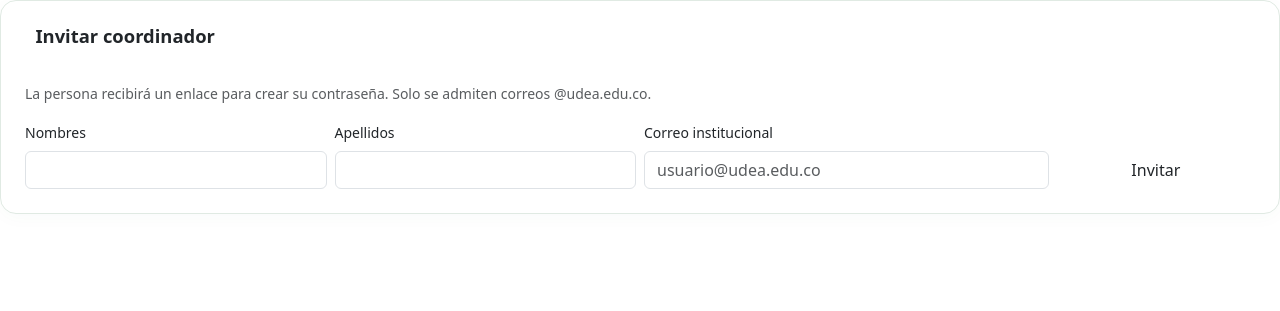
Test case: InvitarCoordinadorForm › solo invita correos @udea.edu.co y confirma el envío
Type "Pedro" into the field labelled "Nombres" at (176, 170), box [25, 151, 326, 189]
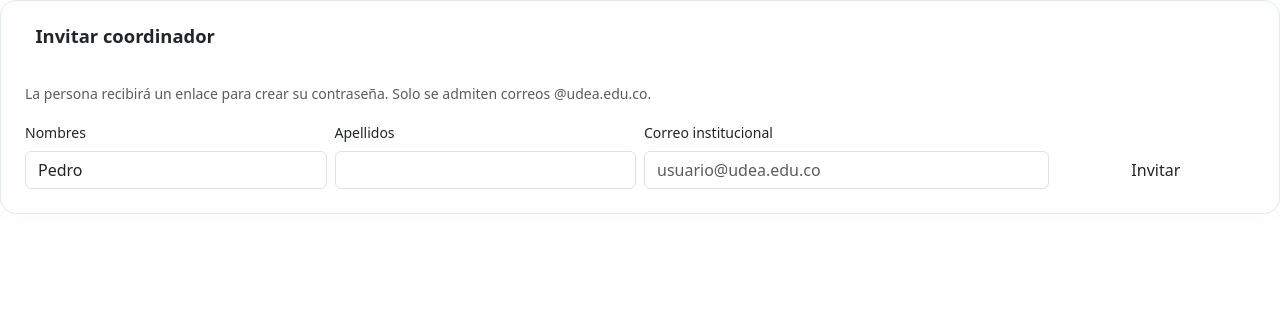
Type "Ruiz" into the field labelled "Apellidos" at (485, 170), box [334, 151, 636, 189]
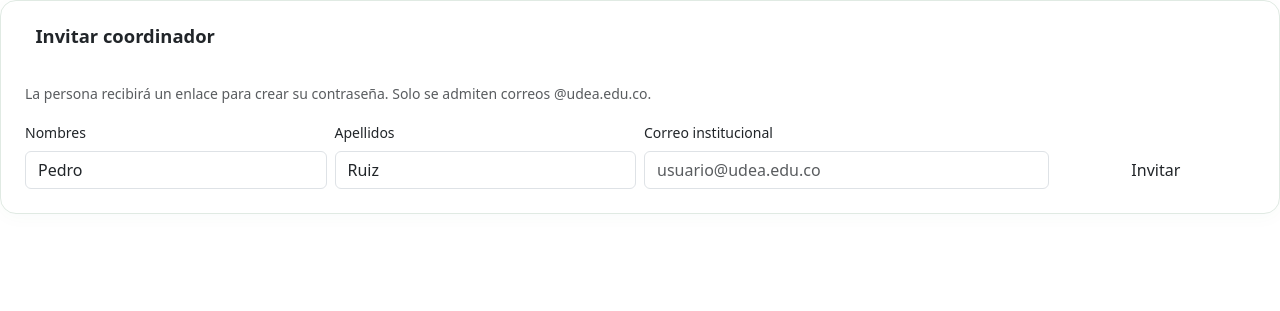
Type "pedro@gmail.com" into the field labelled "Correo institucional" at (846, 170), box [644, 151, 1049, 189]
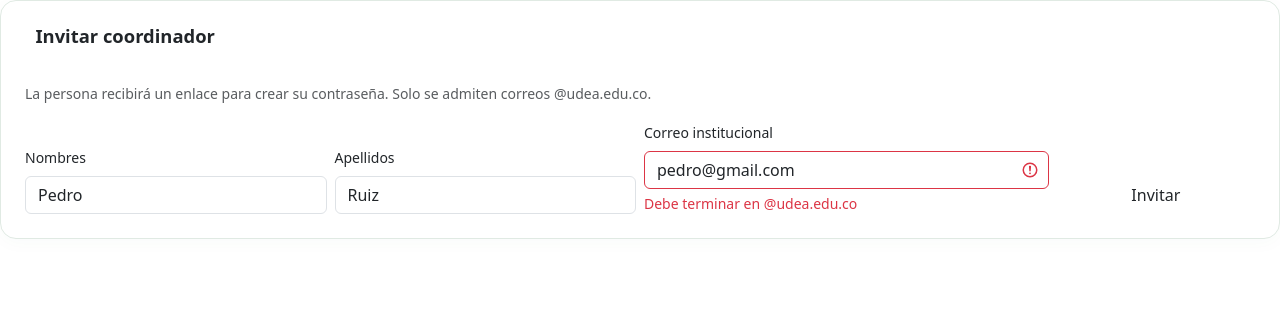
Click the button "Invitar" at (1156, 195), box [1057, 176, 1255, 214]
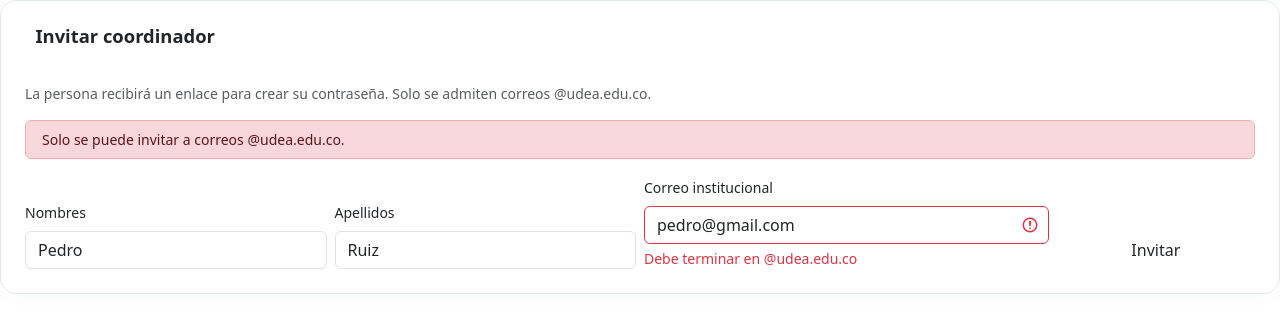
expect the message shows "Solo se puede invitar a correos @udea.edu.co": met, box [42, 130, 345, 149]
Replace the text in the field labelled "Correo institucional" with " Pedro.Ruiz@udea.edu.co " at (846, 225), box [644, 206, 1049, 244]
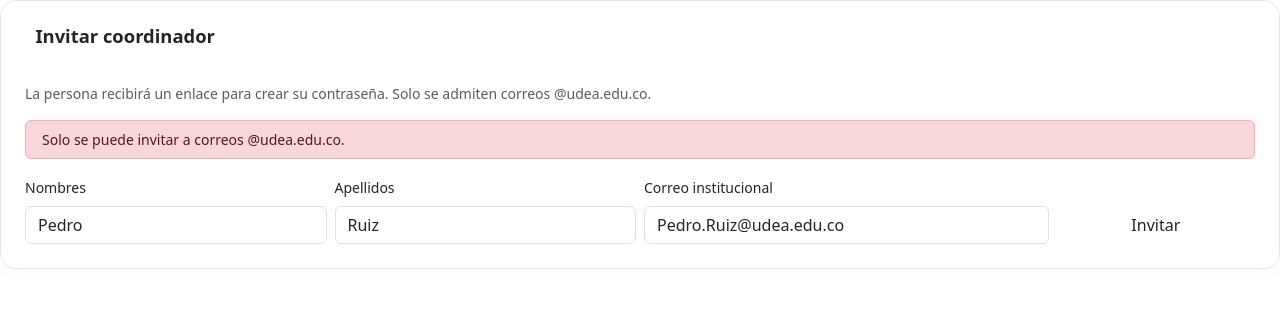
Click the button "Invitar" at (1156, 225), box [1057, 206, 1255, 244]
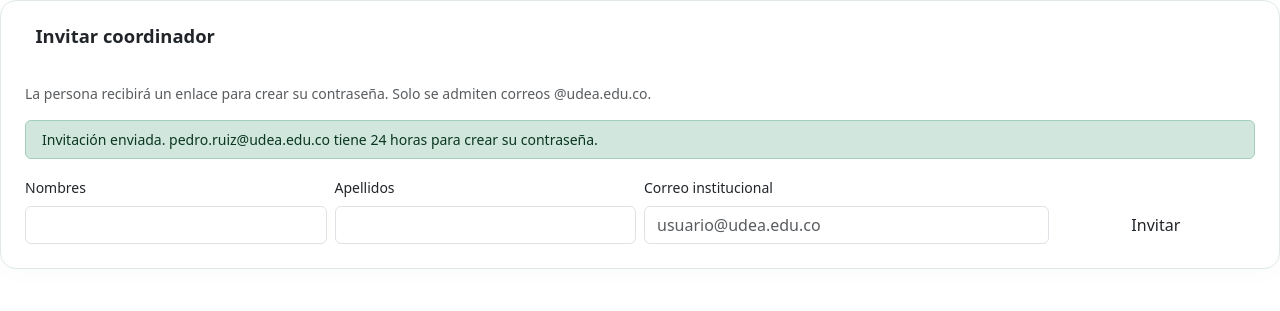
expect the text "Invitación enviada. pedro.ruiz@udea.edu.co tiene 24 horas" is shown: met, box [42, 130, 598, 149]
expect the field labelled "Nombres" is empty: met, box [25, 206, 326, 244]
